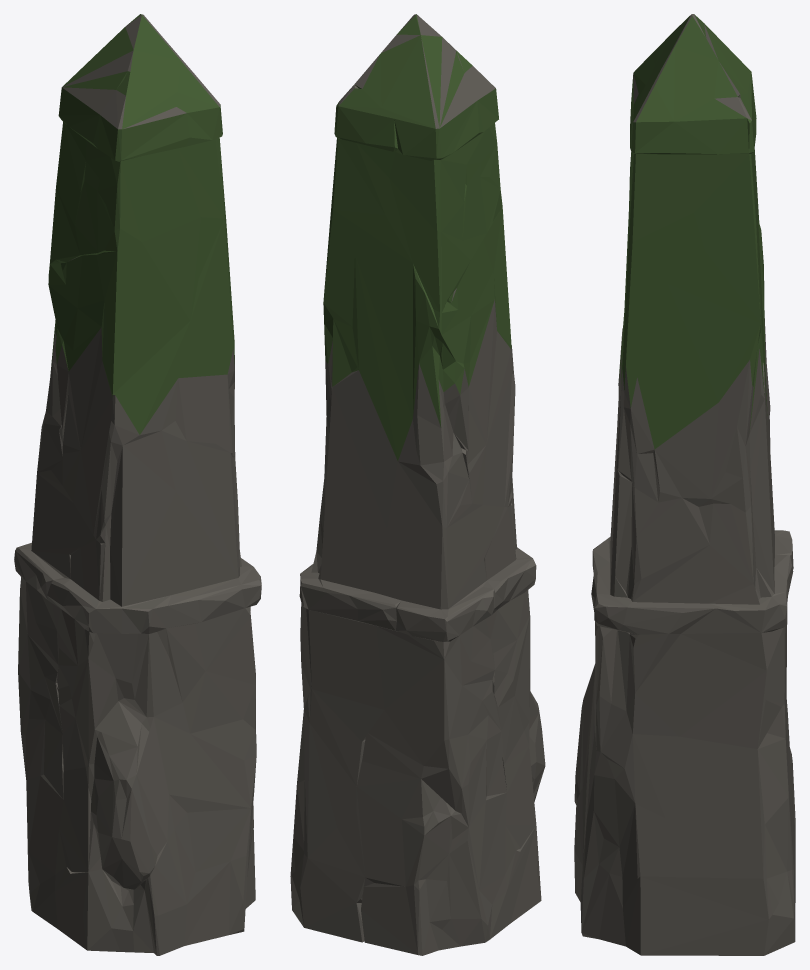
Rendered from boulder-tall-2.glb.
3 renders of one model, left to right at view 1: azimuth 30°, elevation 25°; view 2: azimuth 150°, elevation 25°; view 3: azimuth 270°, elevation 25°, orthographic.
Parts seen in each view (by area): view 1: output_unwrapped; view 2: output_unwrapped; view 3: output_unwrapped.
Part boxes in pixels (bbox=[...]): output_unwrapped: bbox=[14, 14, 261, 955]; output_unwrapped: bbox=[290, 14, 545, 955]; output_unwrapped: bbox=[574, 14, 795, 955].
Size of the model in its own units: 0.6373 by 3 by 0.6702.
